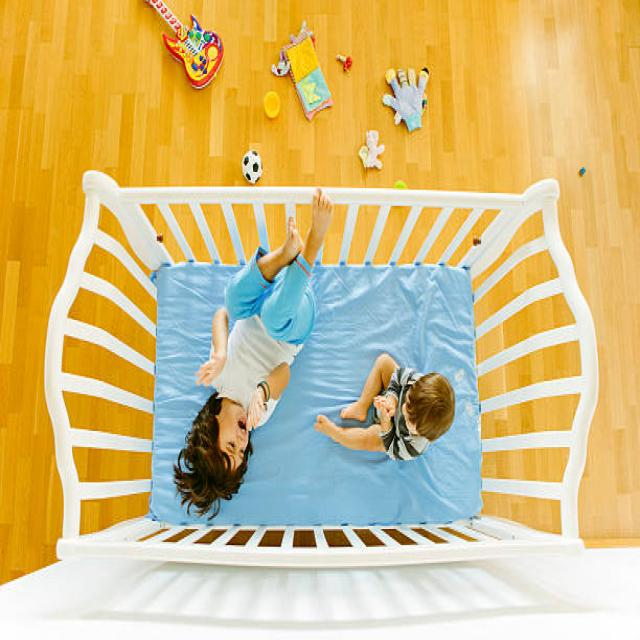baby: (172, 186, 334, 520), (313, 351, 455, 462)
crib: (42, 167, 599, 569)
